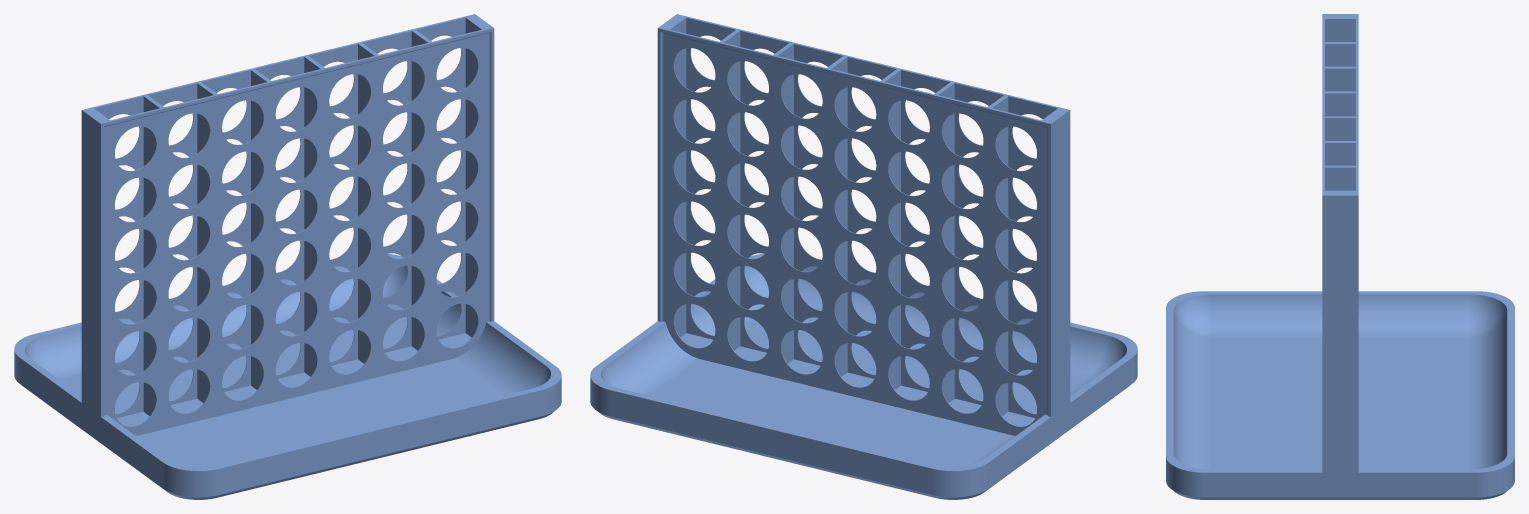
Rendered from vier_Gewinnt.gltf.
3 renders of one model, left to right at view 1: azimuth 30°, elevation 25°; view 2: azimuth 150°, elevation 25°; view 3: azimuth 270°, elevation 25°, orthographic. The views are drawn at different scales.
Visible parts, largest first — view 1: Part 1; view 2: Part 1; view 3: Part 1.
Part boxes in pixels (x1=…): Part 1: x1=14, y1=14, x2=561, y2=499; Part 1: x1=590, y1=14, x2=1137, y2=499; Part 1: x1=1166, y1=14, x2=1514, y2=499.
Size of the model in its own units: 0.33 by 0.26 by 0.268.
